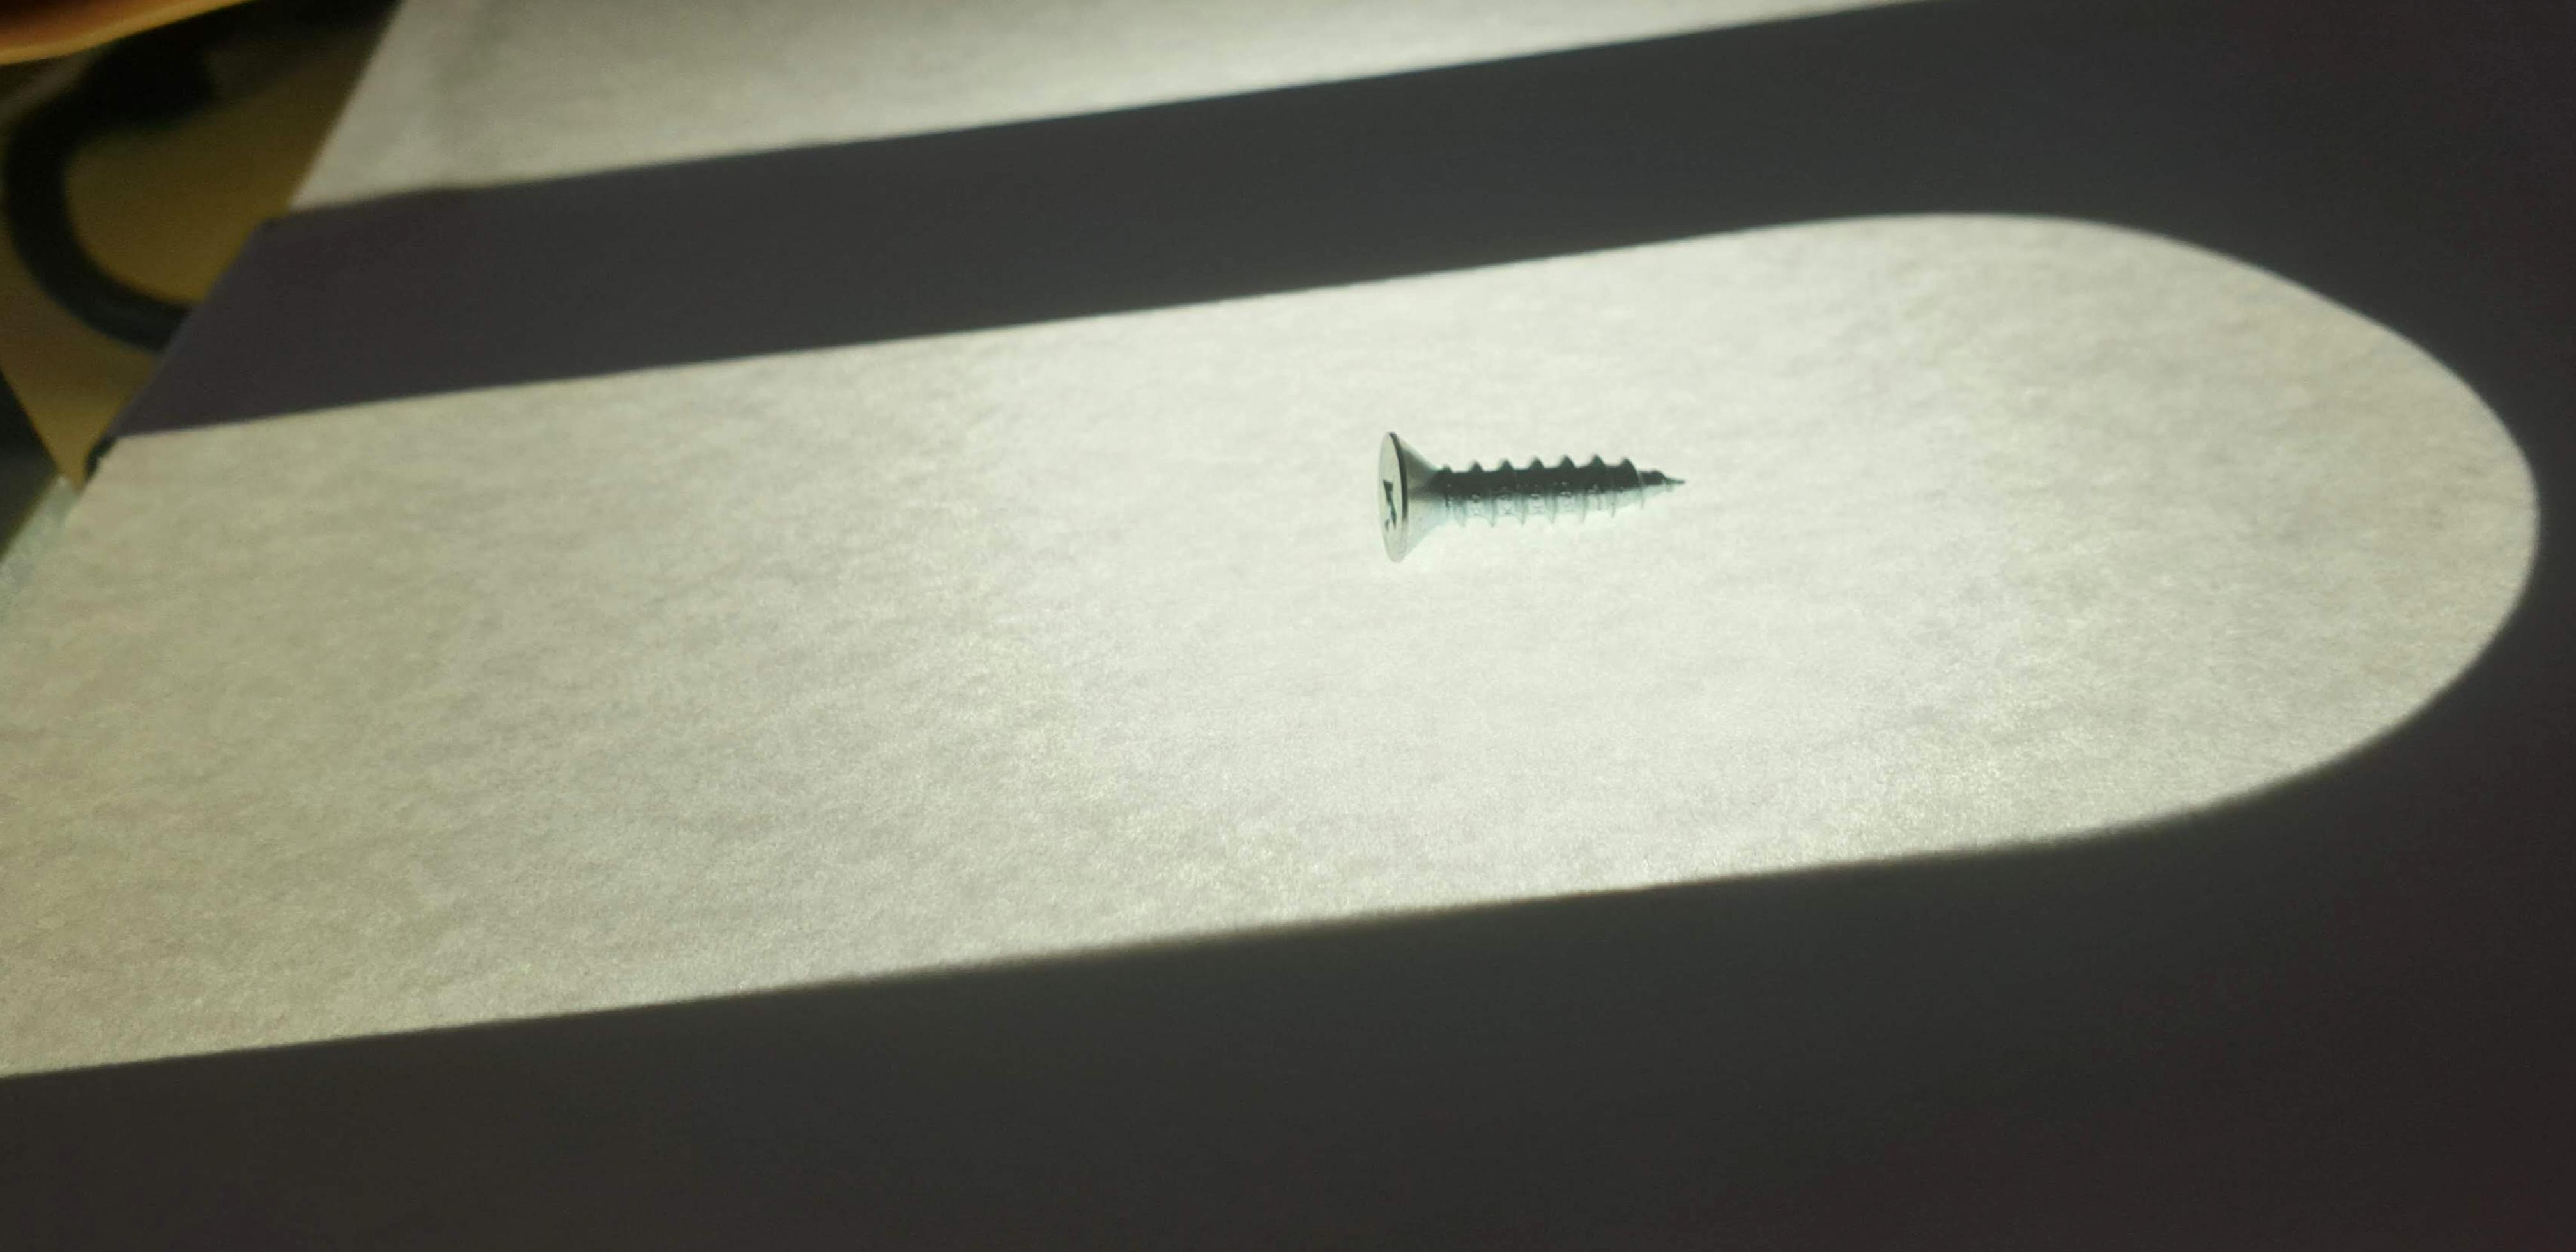S003: (1311, 388, 1753, 595)
